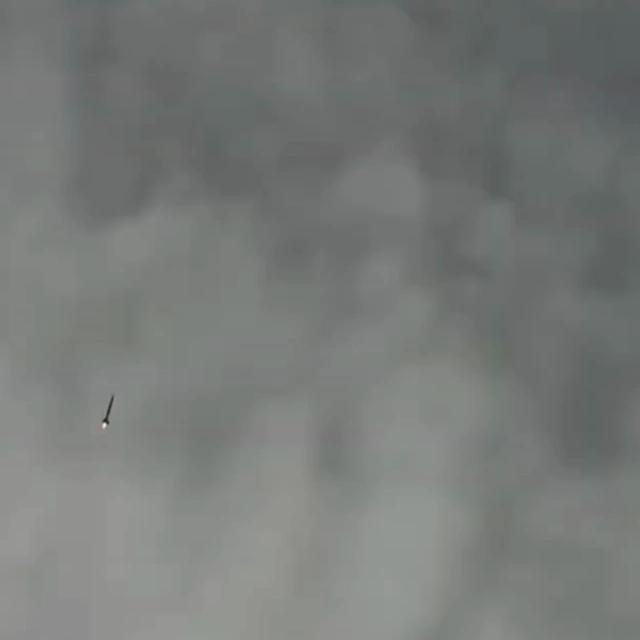rocket: (99, 394, 114, 430)
